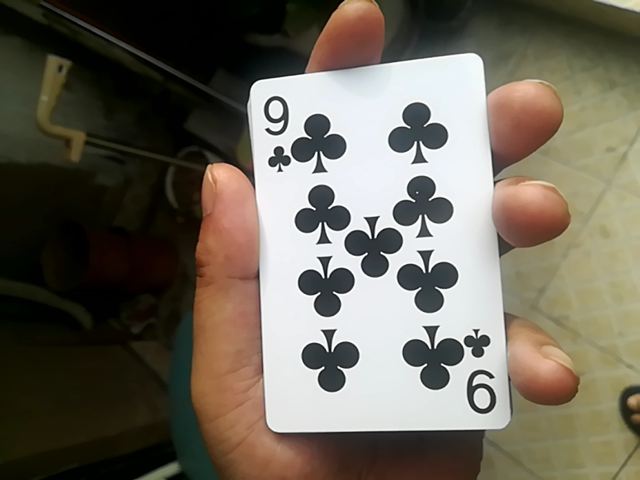mh 9: (253, 45, 513, 449)
